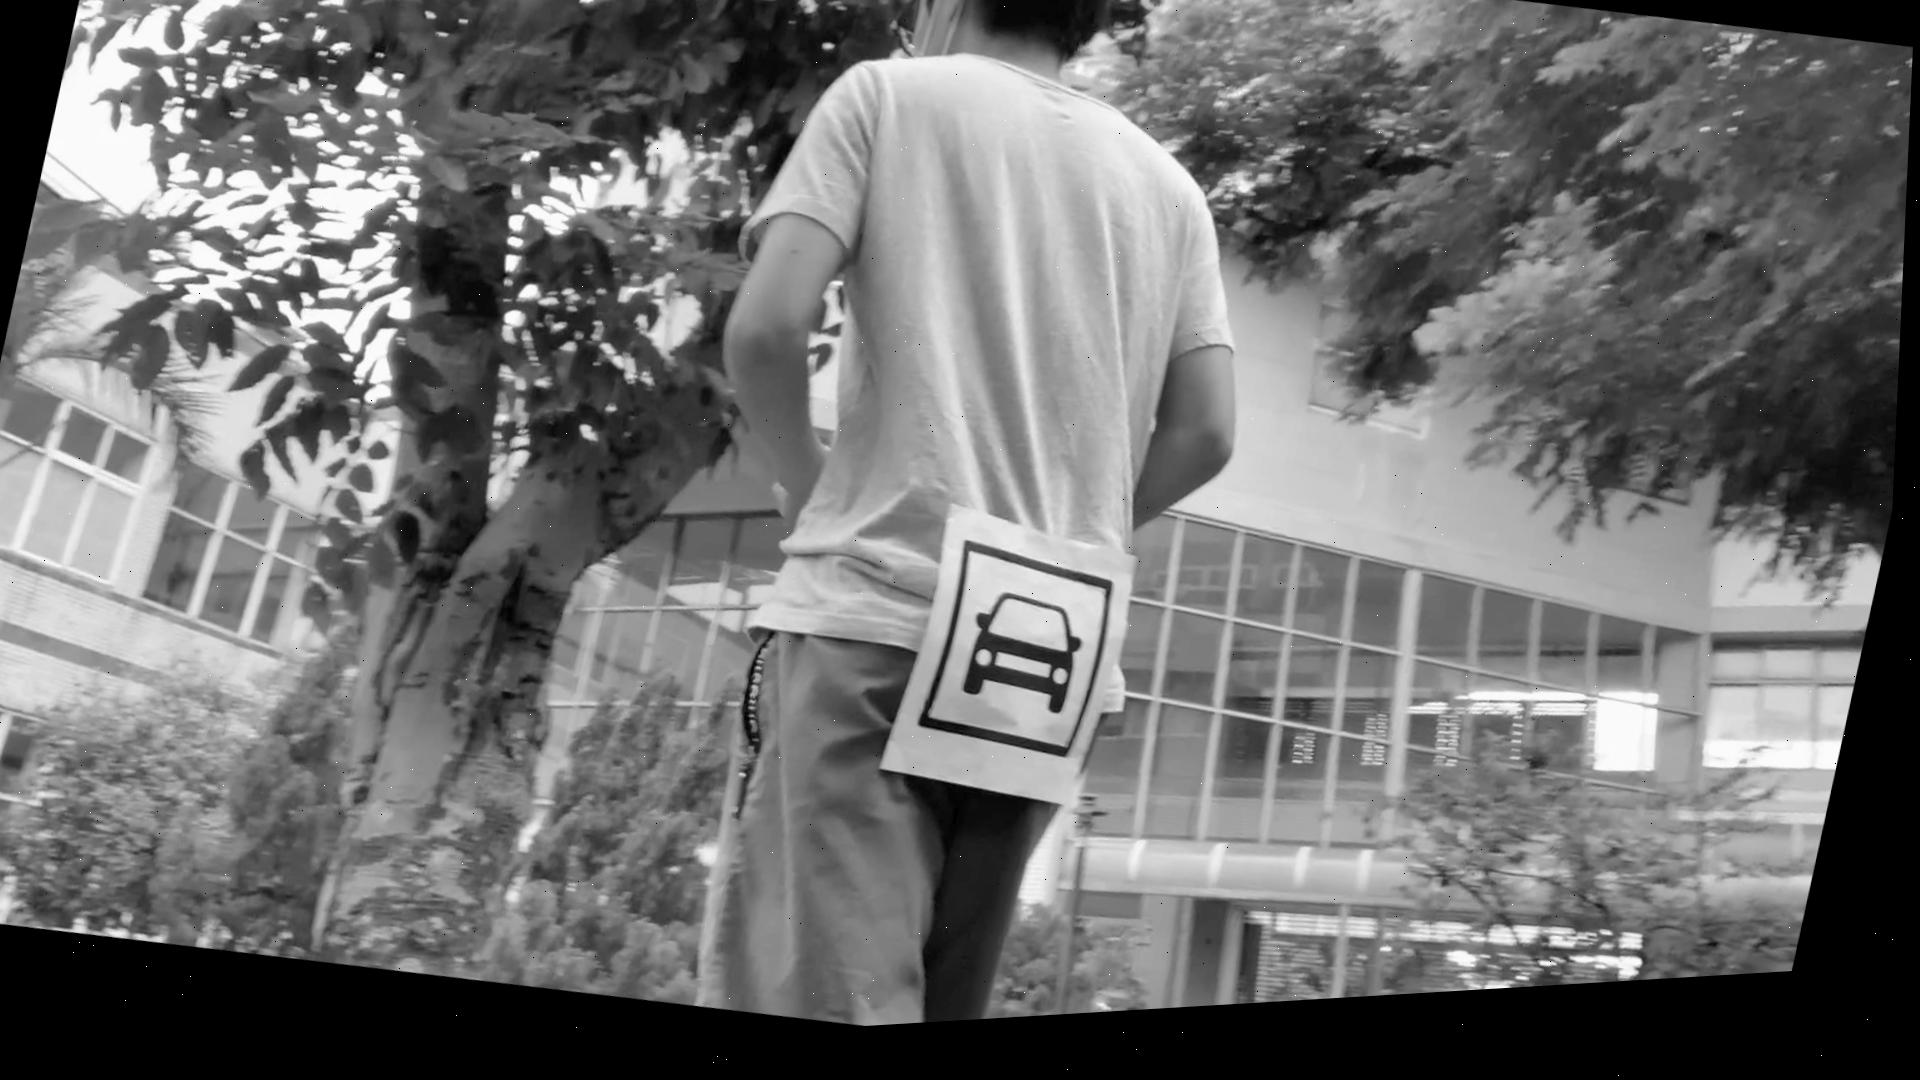car_img: (920, 542, 1131, 782)
